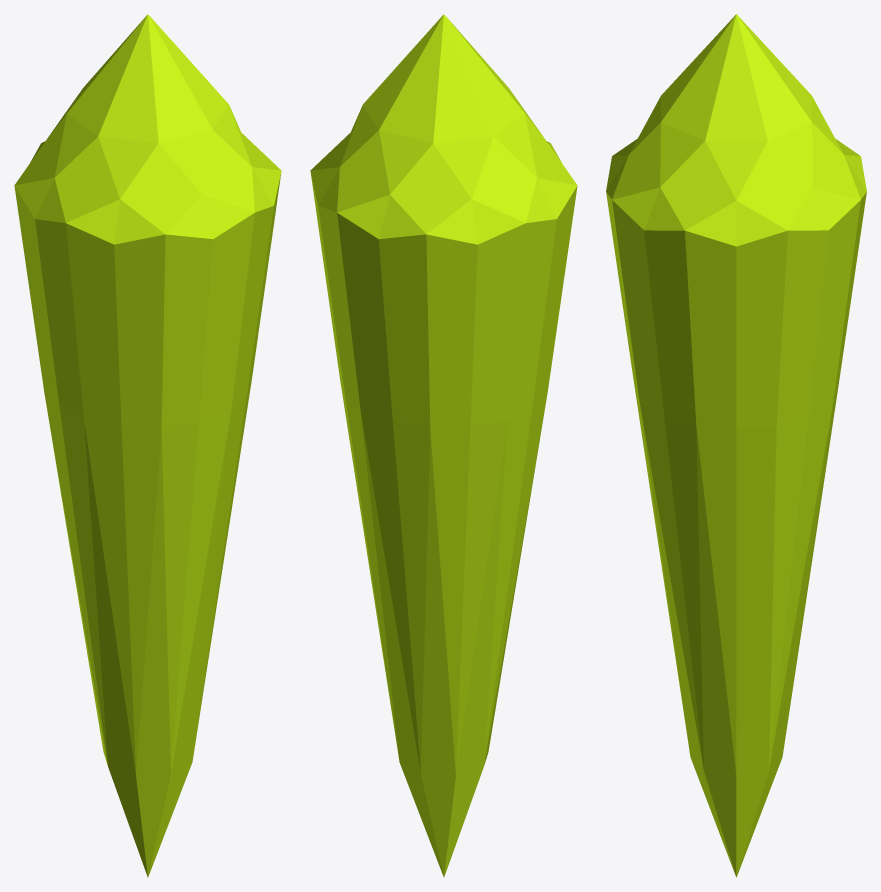
Rendered from yellowCristal.fbx.
3 views of the same model, side by side, from view 1: azimuth 30°, elevation 25°; view 2: azimuth 150°, elevation 25°; view 3: azimuth 270°, elevation 25° (orthographic).
Visible parts, largest first — view 1: Cylinder003; view 2: Cylinder003; view 3: Cylinder003.
Part boxes in pixels (x1=…): Cylinder003: x1=14, y1=14, x2=281, y2=877; Cylinder003: x1=310, y1=14, x2=577, y2=877; Cylinder003: x1=606, y1=14, x2=866, y2=877.
Bounding box in the file's own units: 22.14 × 80.9 × 22.14.
